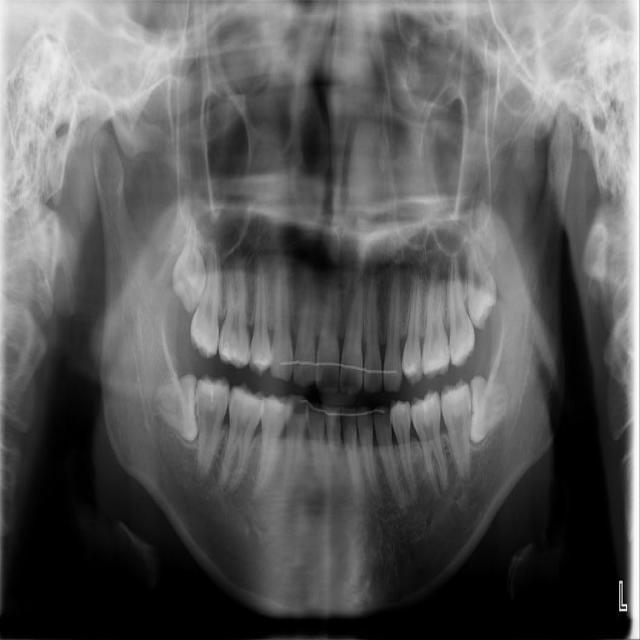3M ESPE Implant: (171, 218, 209, 315)
73: (588, 557, 598, 562)
BioHorizons Implant: (444, 251, 476, 368)
BioLife Implant: (464, 233, 499, 330)
Biomet 3i Implant: (467, 376, 510, 445)
Blue Sky Bio Implant: (440, 378, 472, 483)
Caries: (189, 241, 222, 360)
Implant: (194, 374, 230, 483)
Keystone Dental Implant: (150, 372, 202, 444)
